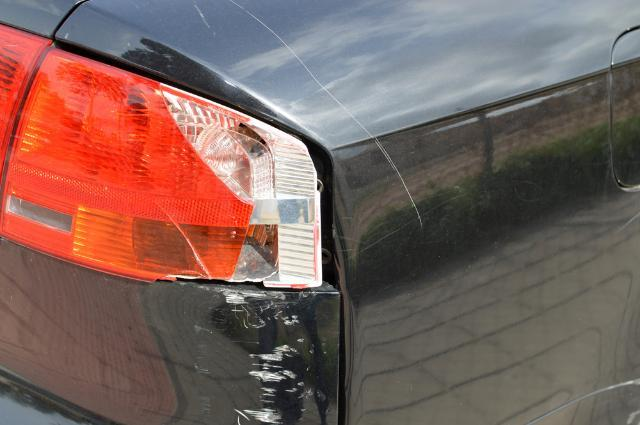lamp broken: (0, 23, 328, 291)
scratch: (230, 0, 426, 232), (222, 286, 319, 425)
